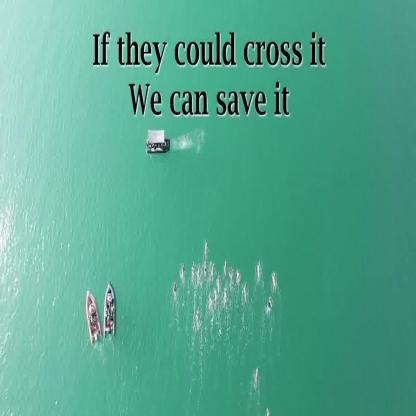Boat: (85, 290, 101, 341), (102, 290, 118, 340)
